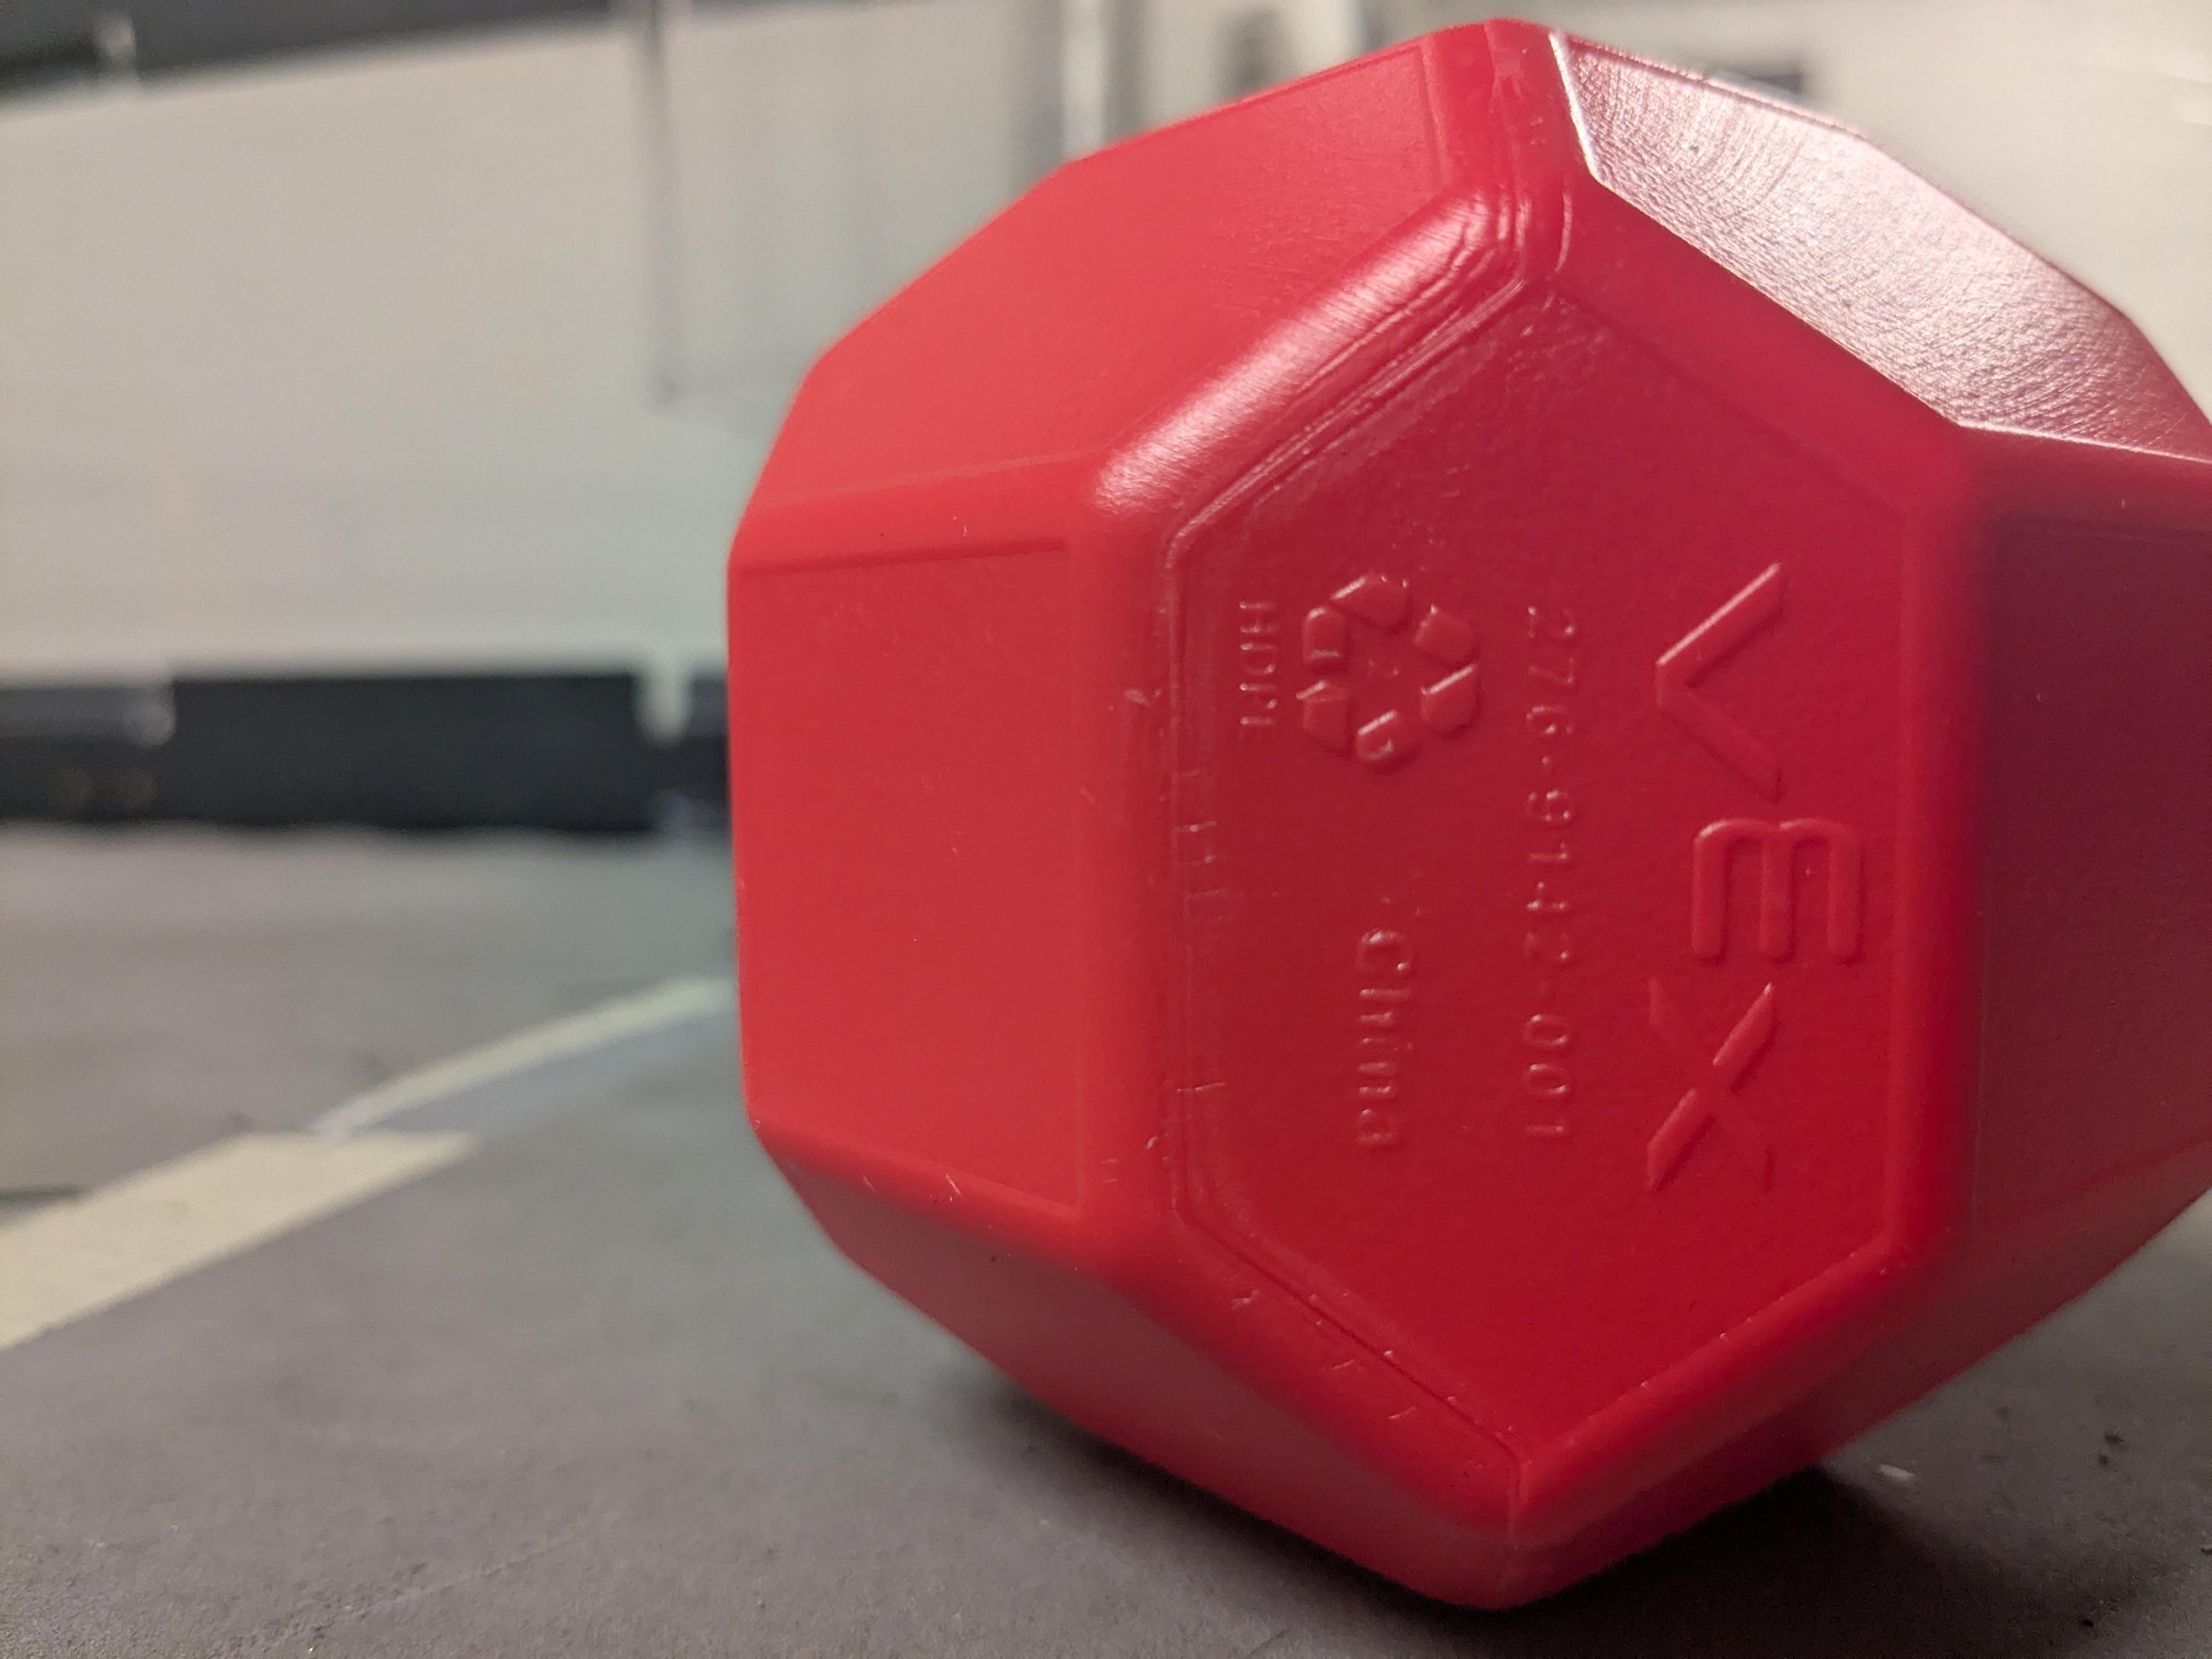Vex-Pieces-RED: (730, 21, 2212, 1605)
